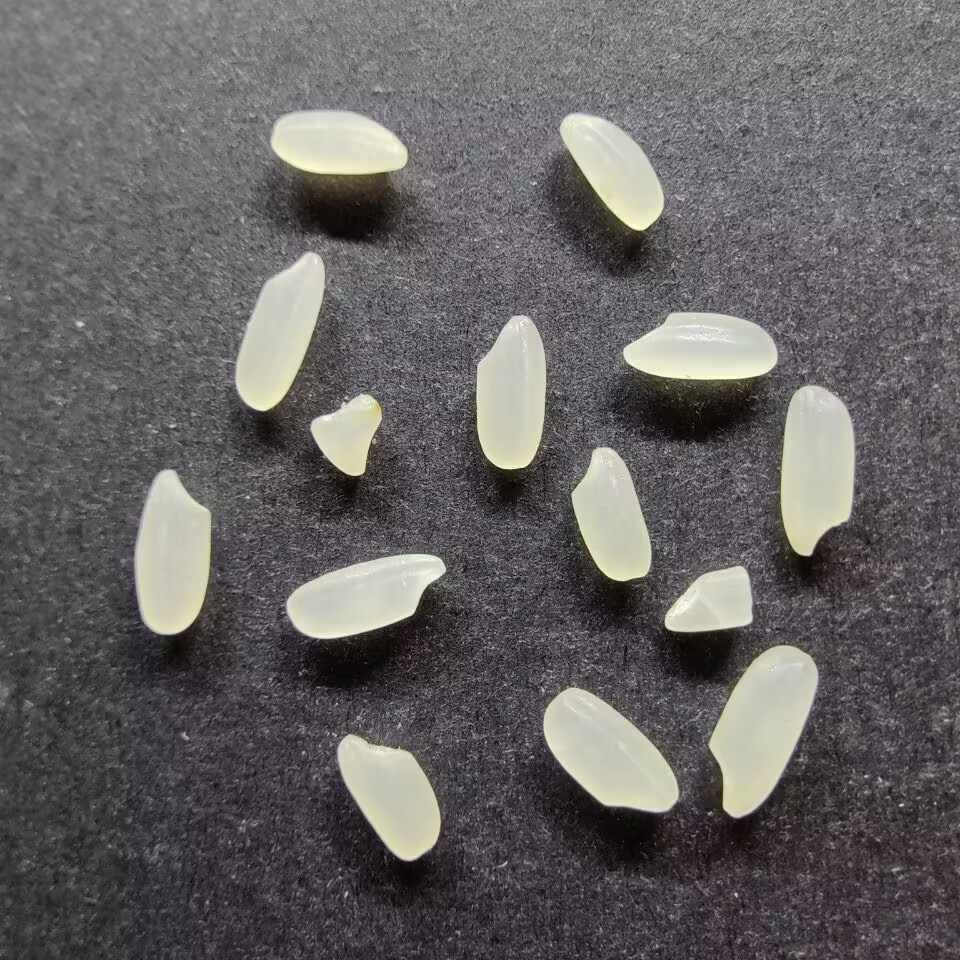broken: (661, 563, 758, 636), (308, 392, 385, 480)
rice: (703, 644, 820, 820), (540, 685, 682, 815), (231, 246, 328, 412), (283, 552, 448, 640), (335, 733, 445, 863), (130, 466, 214, 636), (554, 110, 666, 233), (778, 384, 856, 557), (471, 310, 546, 471), (568, 445, 655, 583), (618, 309, 779, 382), (269, 108, 411, 175)
